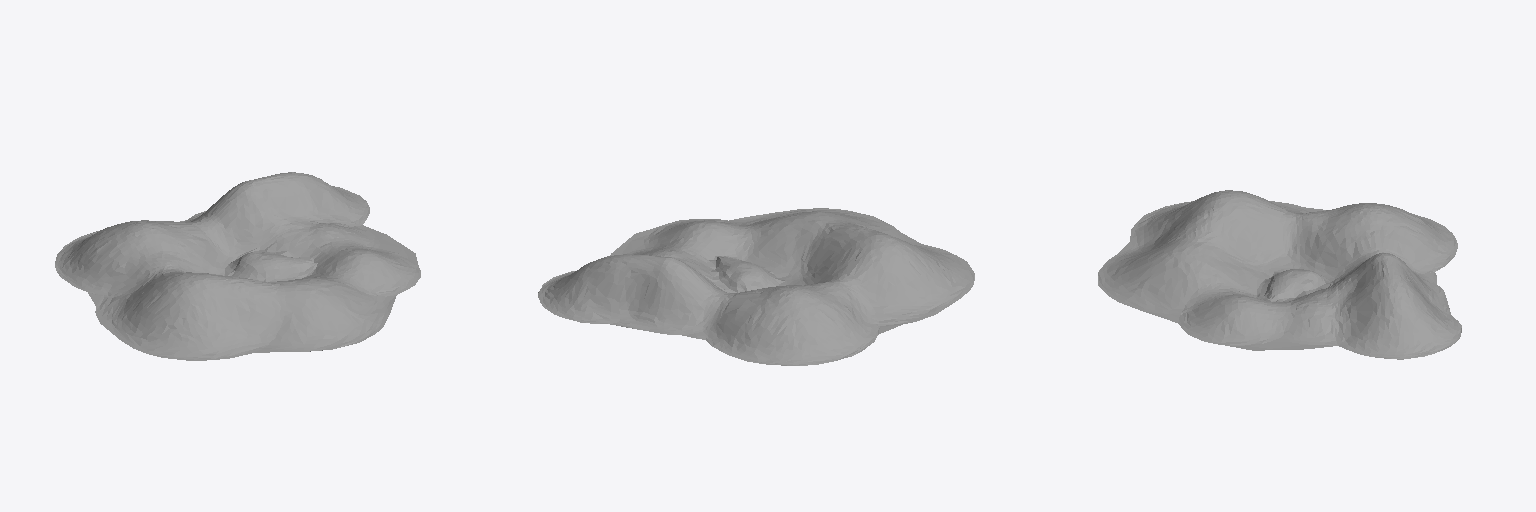
Rendered from lake.obj.
The picture shows the model from 3 angles: view 1: azimuth 30°, elevation 25°; view 2: azimuth 150°, elevation 25°; view 3: azimuth 270°, elevation 25°; orthographic projection.
Parts seen in each view (by area): view 1: Grid; view 2: Grid; view 3: Grid.
Part boxes in pixels (bbox=[...]): Grid: bbox=[55, 172, 420, 360]; Grid: bbox=[538, 208, 974, 365]; Grid: bbox=[1098, 190, 1461, 359].
Size of the model in its own units: 1.6 by 0.2251 by 1.54.